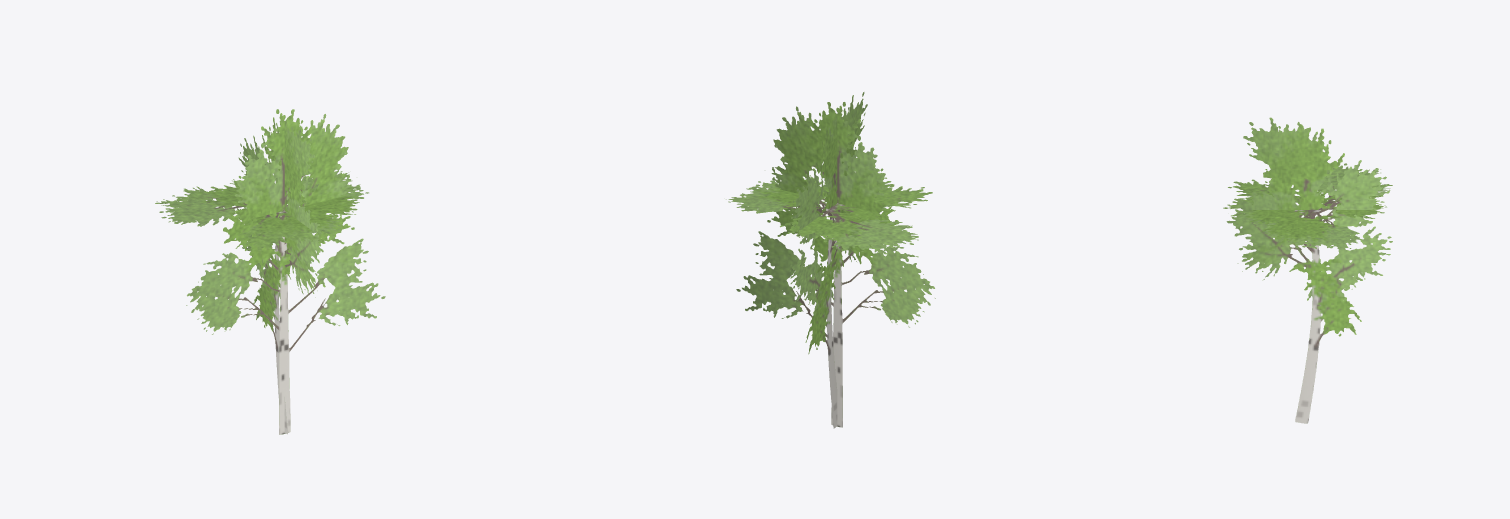
The model's file is birch_1_far.glb.
3 renders of one model, left to right at view 1: azimuth 30°, elevation 25°; view 2: azimuth 150°, elevation 25°; view 3: azimuth 270°, elevation 25°, orthographic. The views are drawn at different scales.
Visible parts, largest first — view 1: birch_1_far; view 2: birch_1_far; view 3: birch_1_far.
Part boxes in pixels (<box>): birch_1_far: <box>155,109,385,434</box>; birch_1_far: <box>726,92,935,428</box>; birch_1_far: <box>1223,117,1392,423</box>.
Bounding box in the file's own units: 10.33 × 10.33 × 10.33.
1 material, 1 textured.
